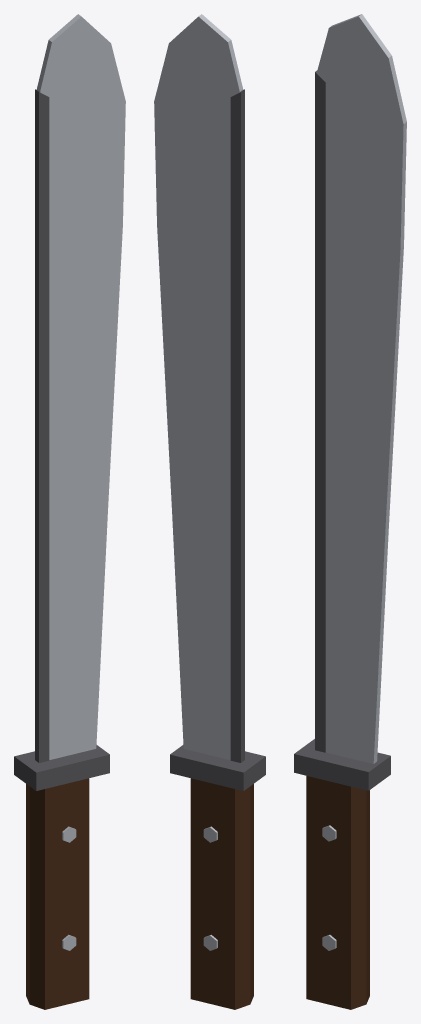
File: machete.glb
The picture shows the model from 3 angles, left to right: view 1: azimuth 30°, elevation 25°; view 2: azimuth 150°, elevation 25°; view 3: azimuth 330°, elevation 25°; orthographic projection.
Visible parts, largest first — view 1: machete; view 2: machete; view 3: machete.
Part boxes in pixels (x1,y1,x2,y2): machete: (14,14,125,1009); machete: (154,14,265,1009); machete: (294,14,406,1009).
Bounding box in the file's own units: 0.067 × 0.632 × 0.026.
